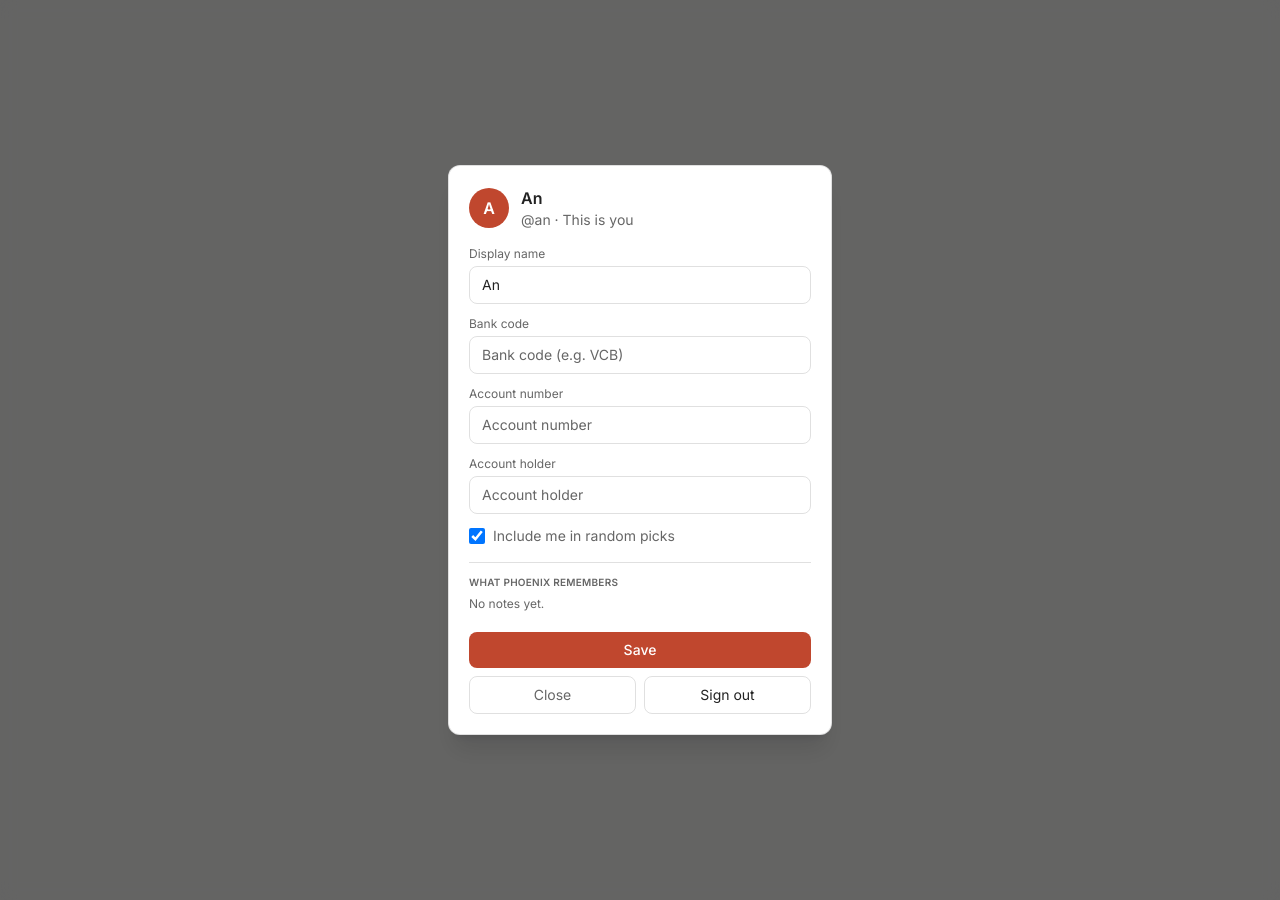
Test case: ProfileDialog save-back › writes edited fields to the saved profile after a successful save
This screenshot has width=1280, height=900.
Replace the text in the field labelled "Display name" with "An Nguyen" at (640, 285), box [469,266,811,304]
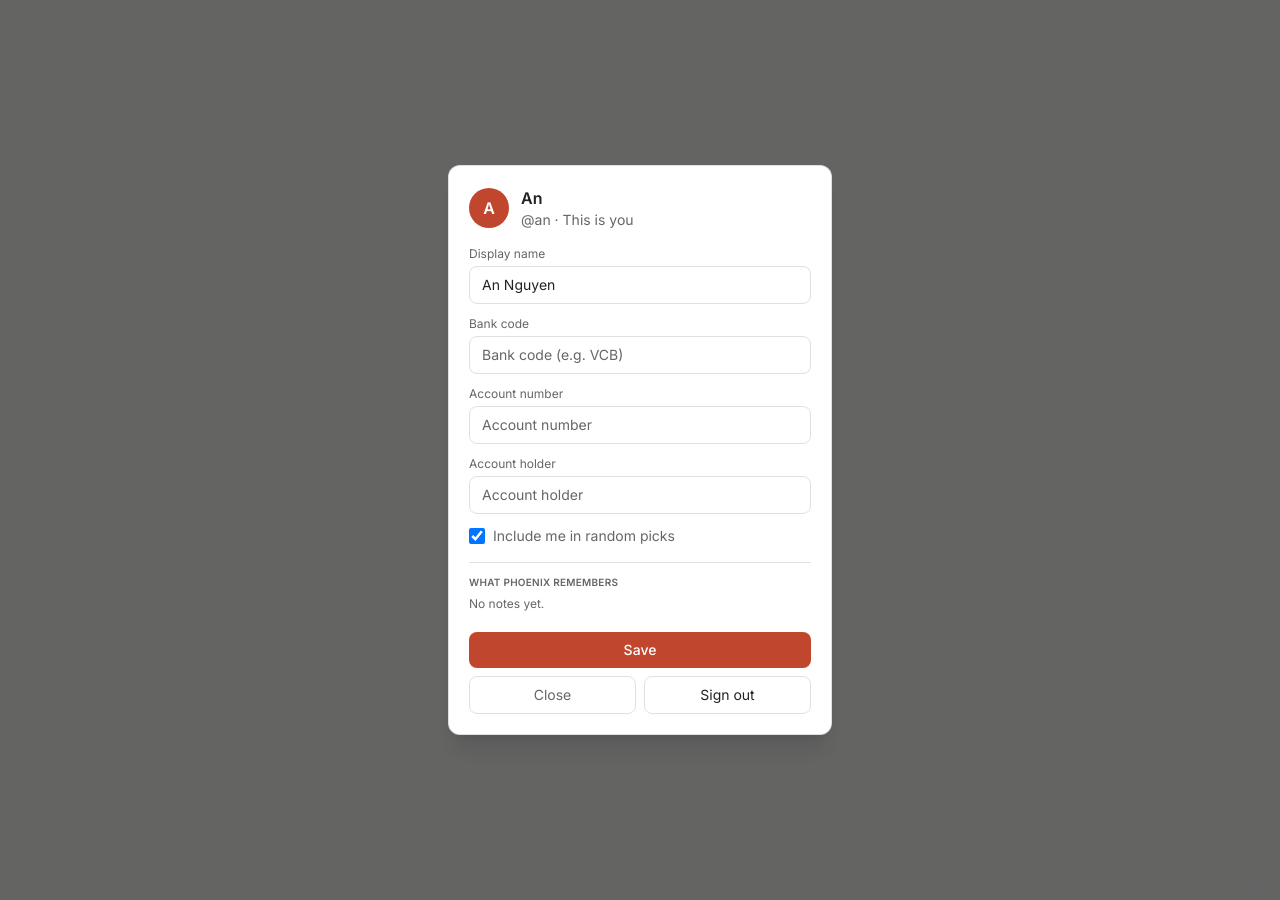
Type "VCB" into the field labelled "Bank code".
click(640, 355); type("VCB")  # box [469,336,811,374]
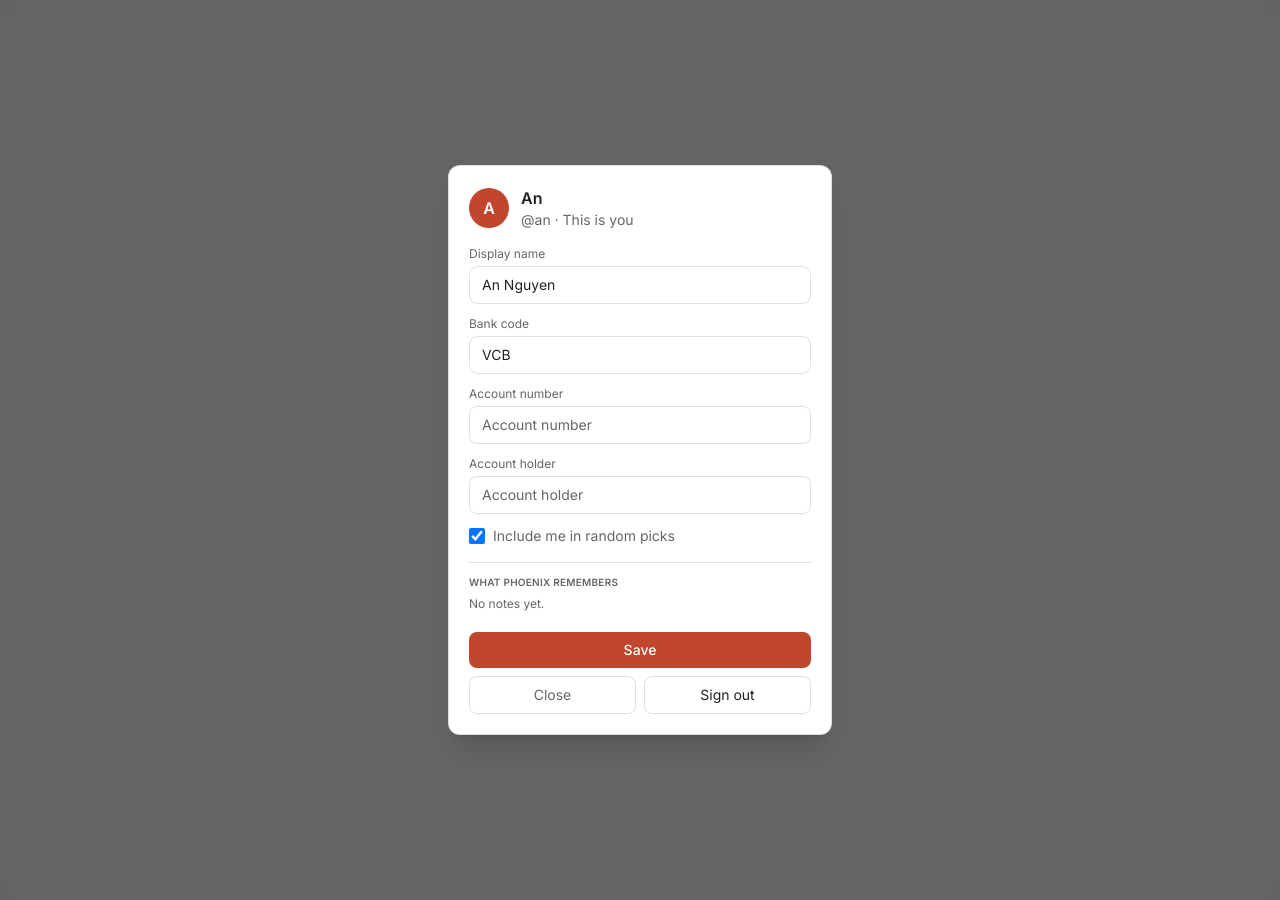
Click the button "Save".
click(640, 650)  # box [469,632,811,668]
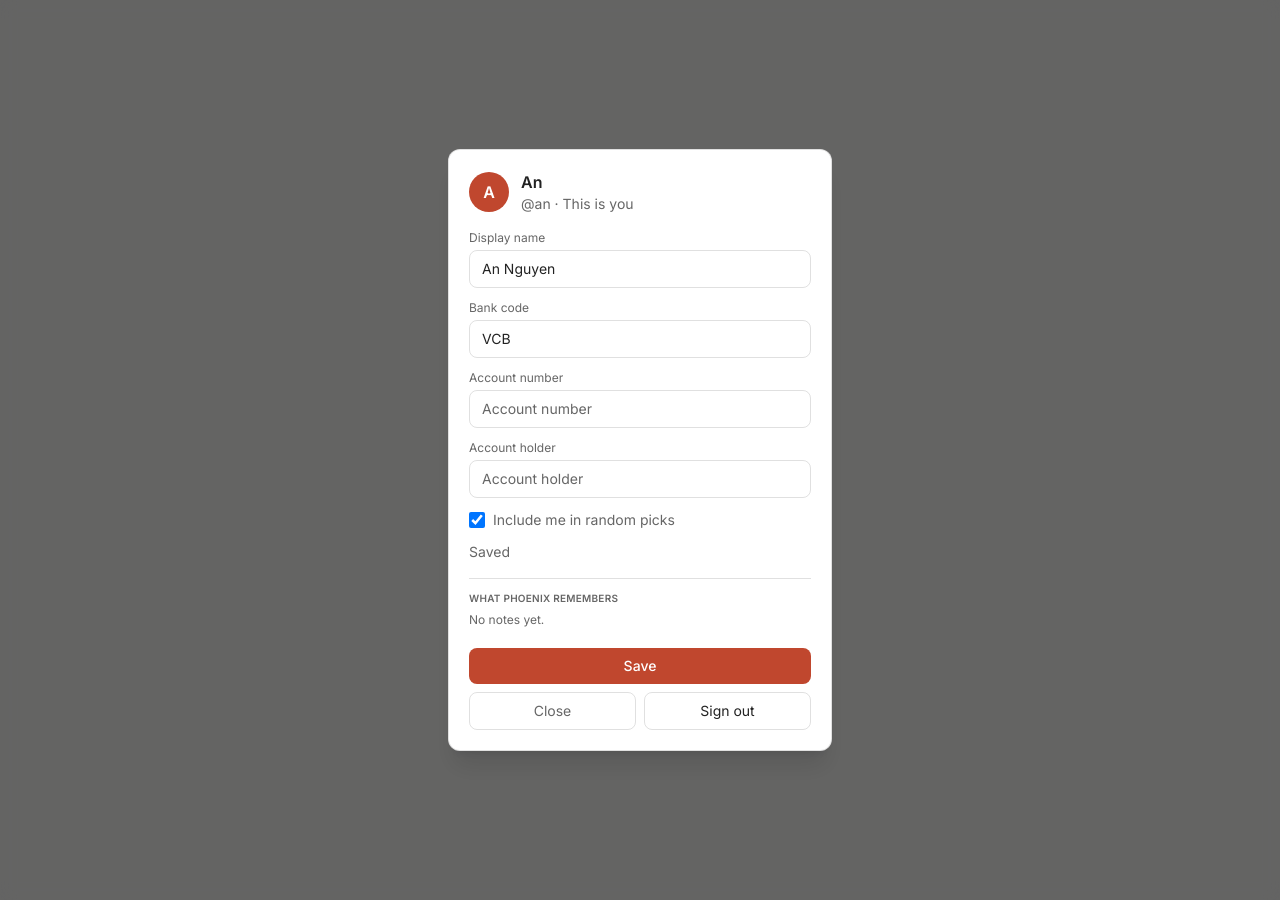
Check: the text "Saved" is shown, box [469,543,510,560]
